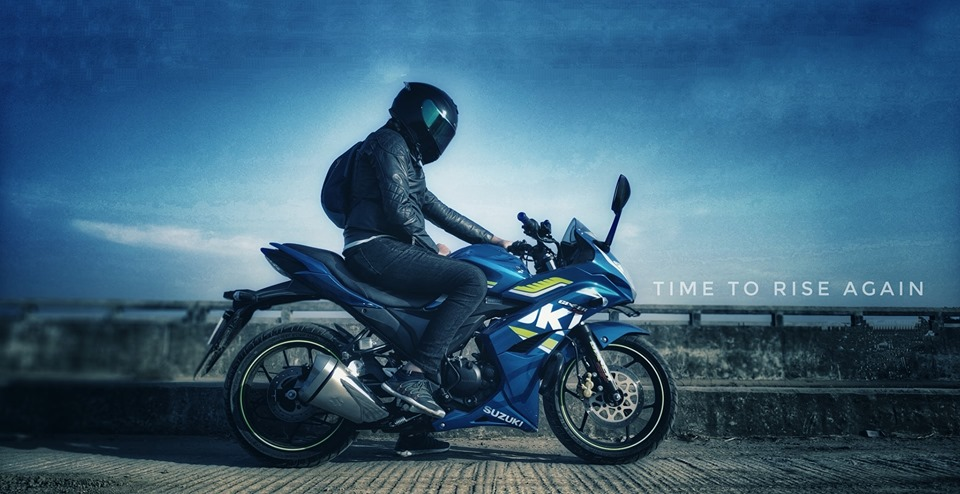bike: (197, 169, 682, 470)
